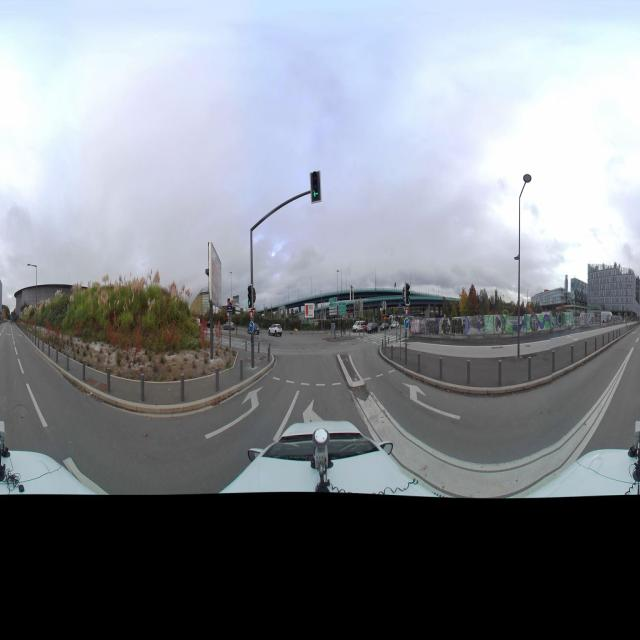car: (268, 322, 283, 336), (367, 320, 377, 333), (352, 320, 361, 332)
